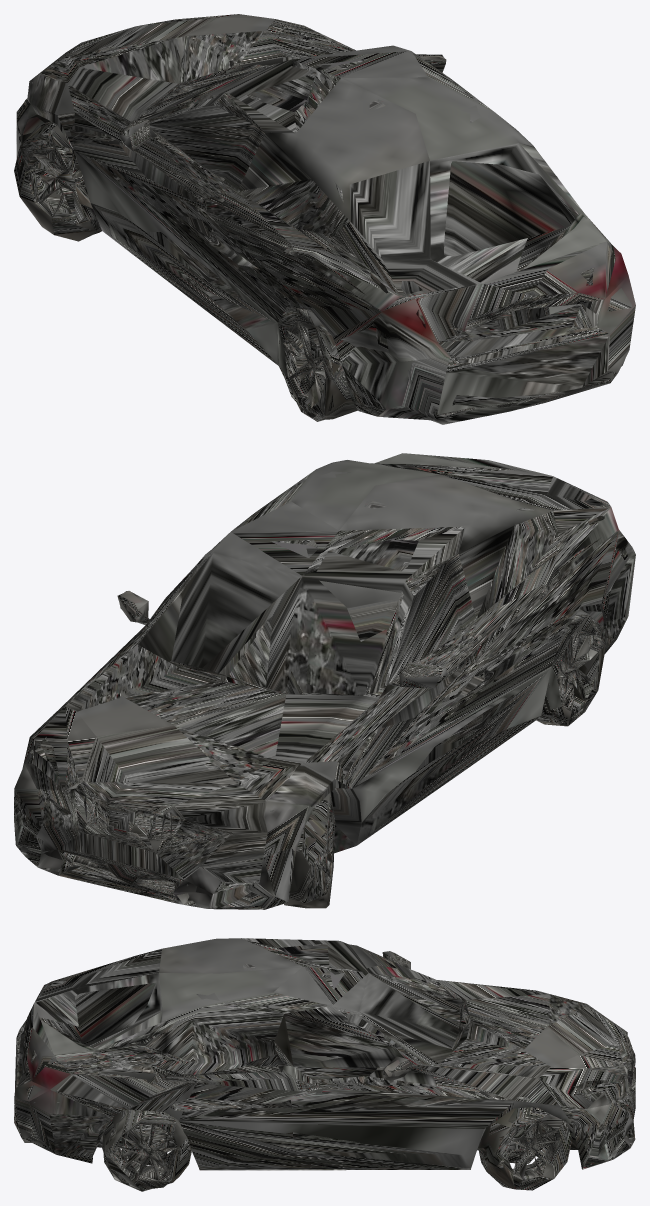
Rendered from Sport_Sedan_22k.glb.
3 renders of one model, top to bottom at view 1: azimuth 30°, elevation 25°; view 2: azimuth 150°, elevation 25°; view 3: azimuth 270°, elevation 25°, orthographic. The views are drawn at different scales.
Visible parts, largest first — view 1: output_unwrapped; view 2: output_unwrapped; view 3: output_unwrapped.
Part boxes in pixels (x1,y1,x2,y2): output_unwrapped: (14, 14, 635, 424); output_unwrapped: (14, 453, 635, 909); output_unwrapped: (14, 938, 635, 1191).
Bounding box in the file's own units: 2.09 × 1.45 × 4.58.
Materials: 1 (1 with a texture image).
